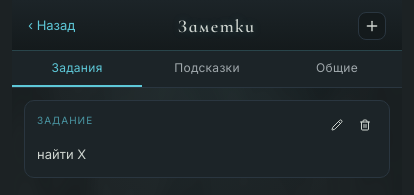
Test: NotesPage › filters notes by active subtab
Expected: the text "найти X" is shown, [37, 146, 86, 162]
Expected: the text "подсказка" is not shown
Click the button "Подсказки" at x=207, y=69, box [142, 51, 272, 87]
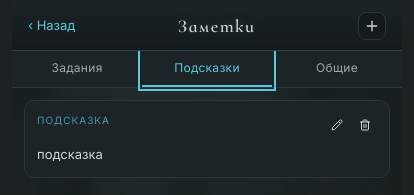
Result: the text "подсказка" is shown at [37, 146, 103, 162]
Result: the text "найти X" is gone
